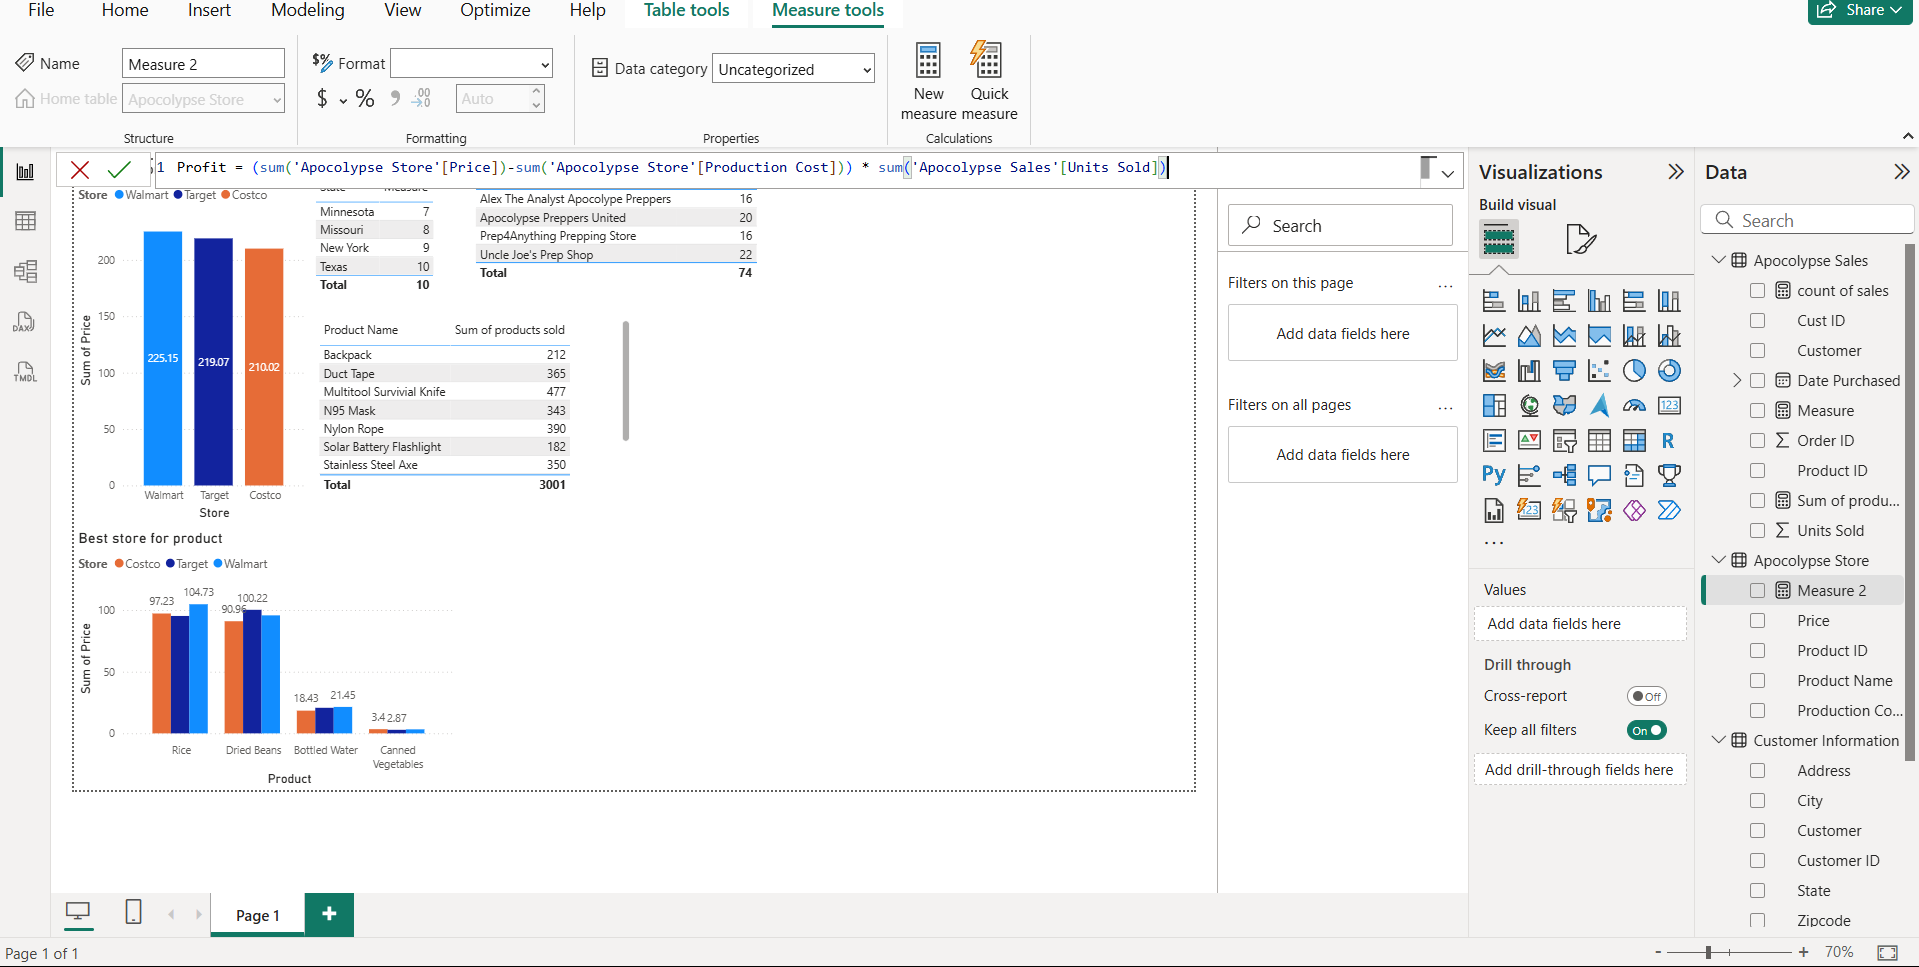

The page's visual inventory and layout, read from the dashboard file:
{"tool":"powerbi","page":{"name":"Page 1","canvas":[1280,720],"ordinal":0},"visuals":[{"type":"columnChart","title":"Total by store","fields":{"Category":["Sheet1.Store"],"Y":["Sheet1.Price"],"Series":["Sheet1.Store"]},"box":[0,0,270,415.7],"z":0},{"type":"clusteredColumnChart","title":"Best store for product","fields":{"Category":["Sheet1.Product"],"Y":["Sheet1.Price"],"Series":["Sheet1.Store"]},"box":[0,421.4,441.4,298.6],"z":1},{"type":"tableEx","fields":{"Values":["Customer Information.State","Apocolypse Sales.Measure"]},"box":[270,14.3,270,194.3],"z":2},{"type":"tableEx","fields":{"Values":["Apocolypse Sales.Customer","Apocolypse Sales.count of sales"]},"box":[452.9,0,365.7,207.1],"z":3},{"type":"tableEx","fields":{"Values":["Apocolypse Store.Product Name","Apocolypse Sales.Sum of products sold"]},"box":[274.3,178.6,365.7,207.1],"z":4},{"type":"tableEx","fields":{"Values":["Apocolypse Sales.Customer","Apocolypse Store.Profit"]},"box":[818.6,14.3,391.4,194.3],"z":5},{"type":"columnChart","fields":{"Category":["Apocolypse Sales.Date Purchased.Variation.Date Hierarchy.Day"],"Y":["Apocolypse Sales.Units Sold"]},"box":[652.9,164.3,597.1,298.6],"z":6},{"type":"clusteredColumnChart","fields":{"Y":["Apocolypse Sales.Units Sold"],"Category":["Apocolypse Sales.Day of Week"]},"box":[472.9,462.9,650,257.1],"z":7}]}

Visuals, with their boxes on the page's 1280x720 design canvas (x1, y1, x2, y2). These are canvas units, not pixel positions in the 1919x967 screenshot, which may show the page scaled, cropped or inside an application window:
"Total by store" columnChart: (left=0, top=0, right=270, bottom=416)
"Best store for product" clusteredColumnChart: (left=0, top=421, right=441, bottom=720)
tableEx - Customer Information.State x Apocolypse Sales.Measure: (left=270, top=14, right=540, bottom=209)
tableEx - Apocolypse Sales.Customer x Apocolypse Sales.count of sales: (left=453, top=0, right=819, bottom=207)
tableEx - Apocolypse Store.Product Name x Apocolypse Sales.Sum of products sold: (left=274, top=179, right=640, bottom=386)
tableEx - Apocolypse Sales.Customer x Apocolypse Store.Profit: (left=819, top=14, right=1210, bottom=209)
columnChart - Apocolypse Sales.Date Purchased.Variation.Date Hierarchy.Day x Apocolypse Sales.Units Sold: (left=653, top=164, right=1250, bottom=463)
clusteredColumnChart - Apocolypse Sales.Units Sold x Apocolypse Sales.Day of Week: (left=473, top=463, right=1123, bottom=720)
